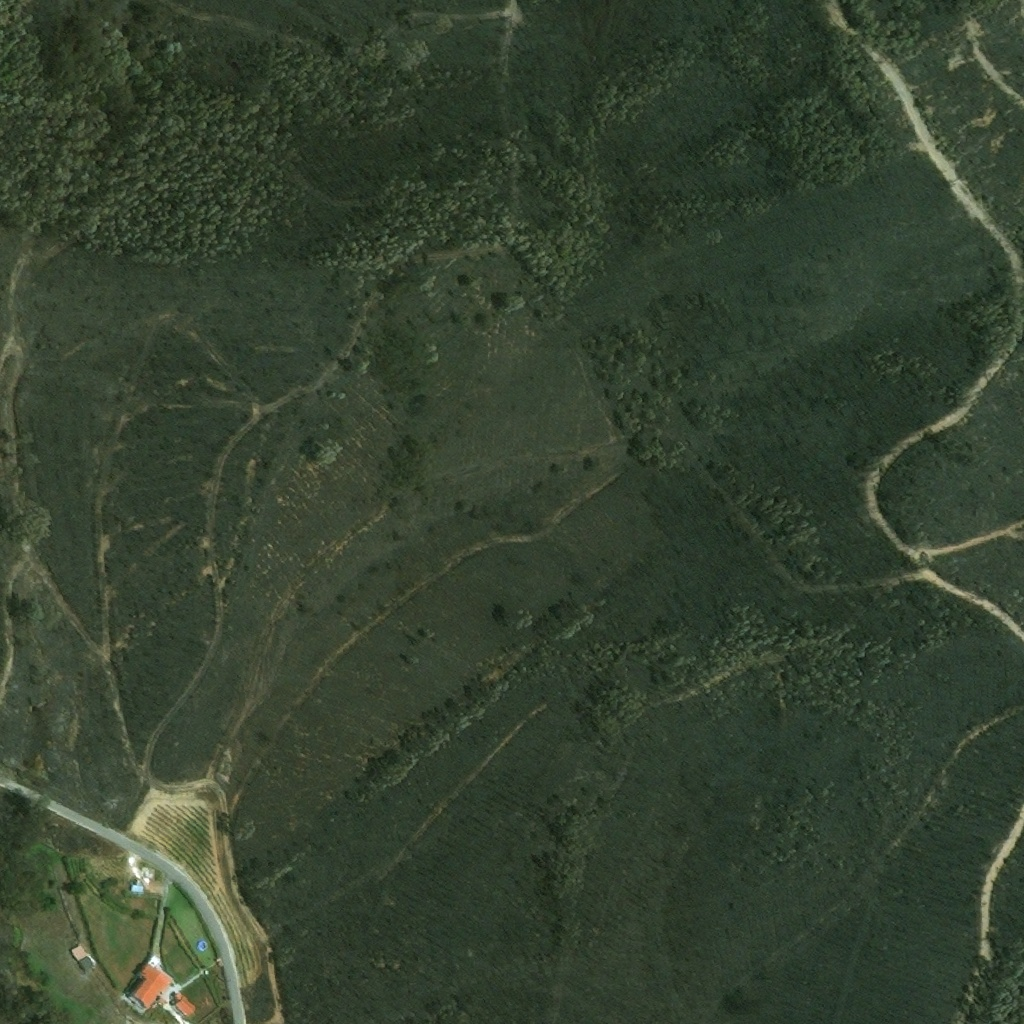0 no-damage: (130, 960, 170, 1009), (174, 991, 197, 1018), (69, 944, 87, 962), (77, 956, 93, 972), (131, 879, 144, 892), (141, 867, 156, 878), (148, 955, 160, 968), (216, 958, 223, 967), (204, 970, 209, 975)
